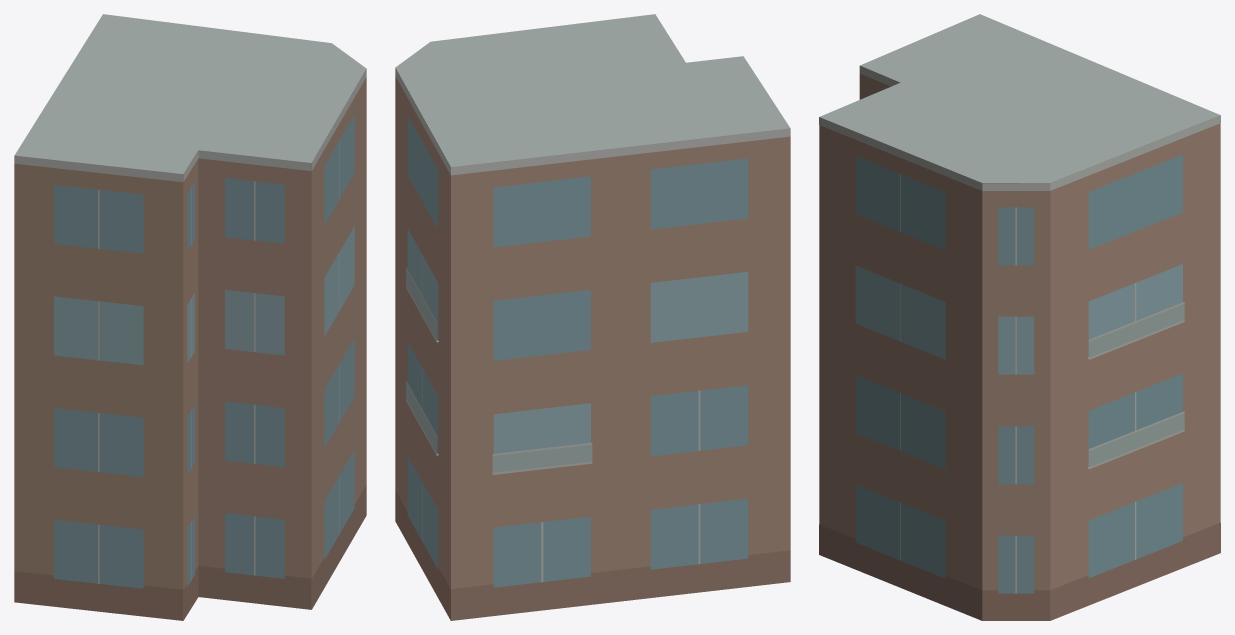
File: survey-upis-32791869.glb
3 renders of one model, left to right at view 1: azimuth 30°, elevation 25°; view 2: azimuth 150°, elevation 25°; view 3: azimuth 270°, elevation 25°, orthographic. The views are drawn at different scales.
Visible parts, largest first — view 1: survey-upis-32791869.tmp; view 2: survey-upis-32791869.tmp; view 3: survey-upis-32791869.tmp.
Boxes of the visible parts, box(x1,y1,x2,y2) form: survey-upis-32791869.tmp: box(14, 14, 366, 620); survey-upis-32791869.tmp: box(395, 14, 790, 620); survey-upis-32791869.tmp: box(819, 14, 1220, 620).
Bounding box in the file's own units: 11.19 × 13.5 × 11.23.
